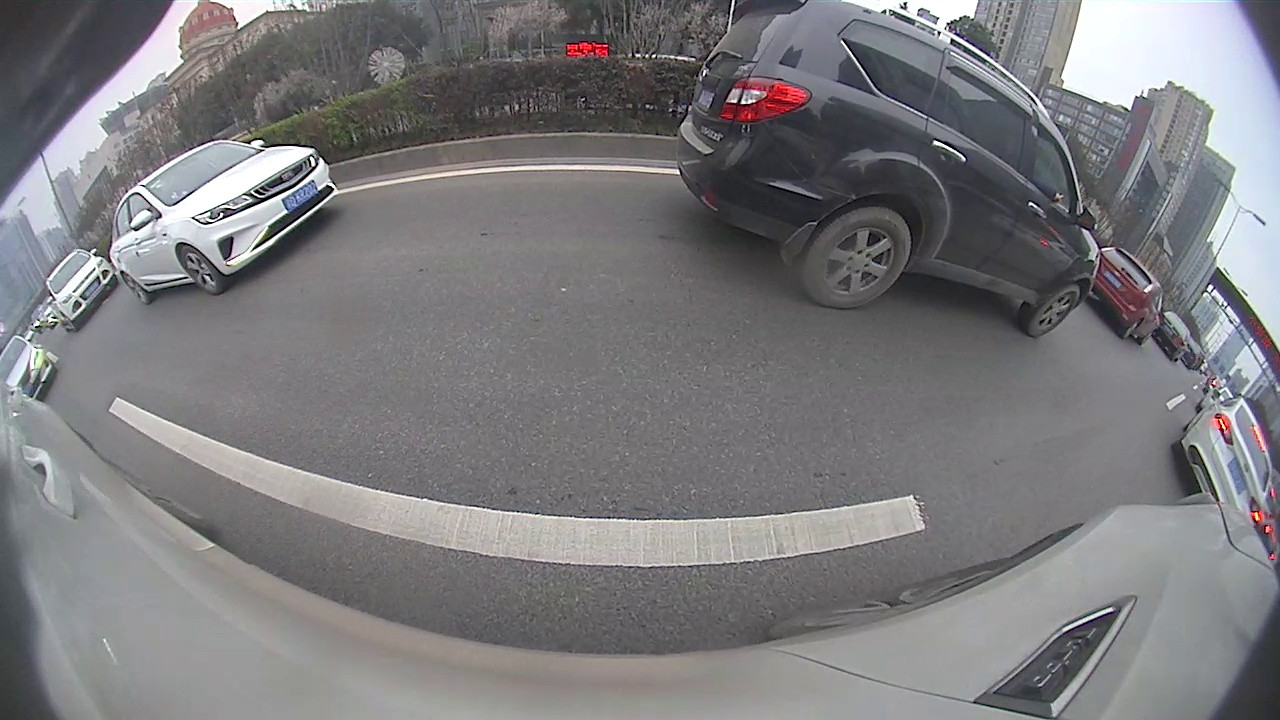car: (676, 1, 1102, 339), (109, 140, 340, 304), (1170, 397, 1273, 515), (1091, 245, 1161, 347), (43, 249, 116, 332), (1, 336, 55, 401), (1154, 313, 1191, 363)
front: (1023, 282, 1080, 340), (178, 246, 224, 296)
rear: (800, 205, 912, 310), (123, 274, 150, 306), (1121, 319, 1142, 341)
